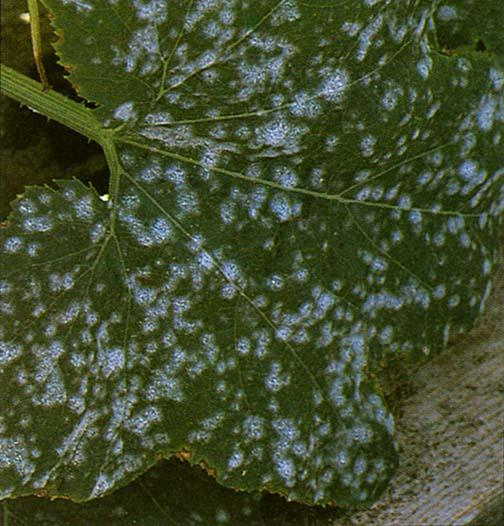powdery_mildew: (9, 5, 504, 526)
